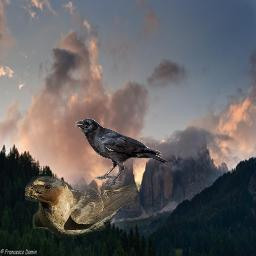Crow: (75, 118, 168, 186)
Swallow: (25, 176, 142, 239)
